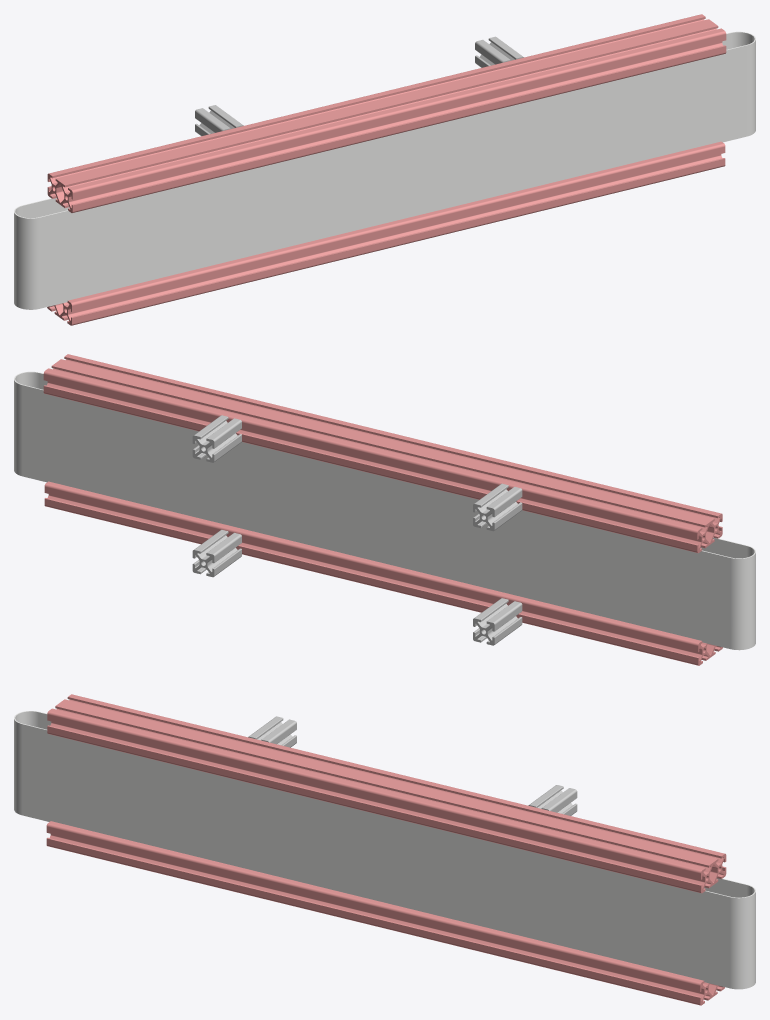
The model's file is conveyor.fbx.
3 views of the same model, one above another, from view 1: azimuth 30°, elevation 25°; view 2: azimuth 150°, elevation 25°; view 3: azimuth 330°, elevation 25° (orthographic).
Parts seen in each view (by area): view 1: Body1.002, Body1.001, Body1, Body1.005, Body1.006; view 2: Body1.002, Body1.001, Body1, Body1.004, Body1.006, Body1.005, Body1.003; view 3: Body1.002, Body1.001, Body1, Body1.005, Body1.006.
Part boxes in pixels (bbox=[...]): Body1.002: bbox=[14, 31, 755, 309]; Body1.001: bbox=[47, 14, 726, 212]; Body1: bbox=[47, 141, 725, 325]; Body1.005: bbox=[475, 36, 523, 67]; Body1.006: bbox=[195, 105, 243, 136]; Body1.002: bbox=[14, 371, 755, 650]; Body1.001: bbox=[43, 354, 722, 553]; Body1: bbox=[44, 481, 722, 665]; Body1.004: bbox=[192, 529, 241, 577]; Body1.006: bbox=[473, 483, 522, 531]; Body1.005: bbox=[192, 415, 241, 462]; Body1.003: bbox=[473, 598, 522, 645]; Body1.002: bbox=[14, 711, 755, 989]; Body1.001: bbox=[47, 694, 726, 893]; Body1: bbox=[46, 821, 724, 1005]; Body1.005: bbox=[528, 785, 577, 815]; Body1.006: bbox=[248, 716, 296, 747].
Size of the model in its own units: 67.7 by 12.04 by 8.4.
